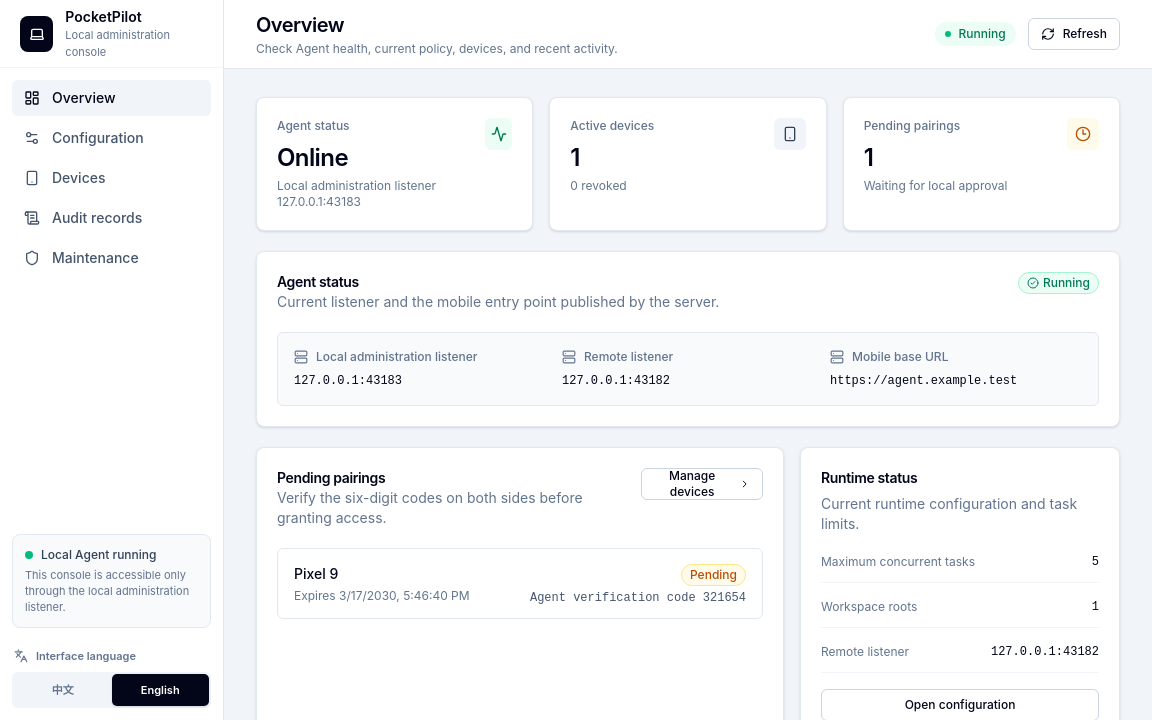
it: App › keeps unrecognized audit results opaque
Expected: the text "127.0.0.1:43183" is shown, [294, 374, 402, 388]
Click the button "Audit records" at (112, 218), box [12, 200, 211, 236]
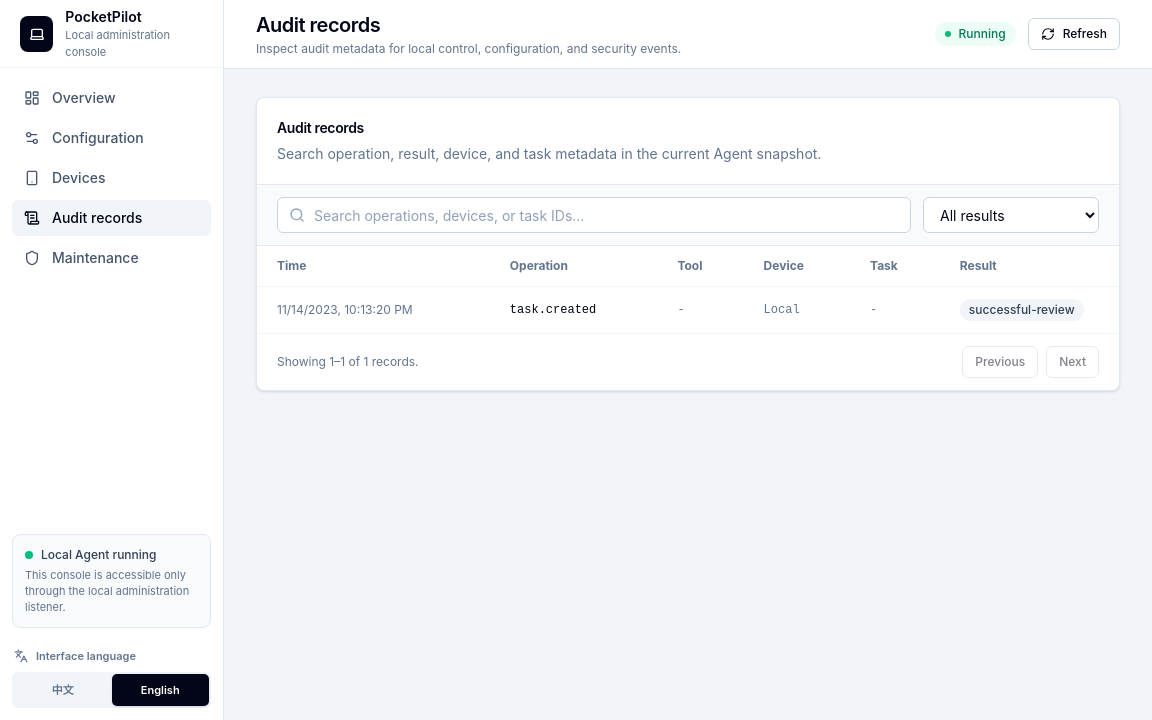
Expected: the text "successful-review" is shown, [969, 302, 1075, 317]
